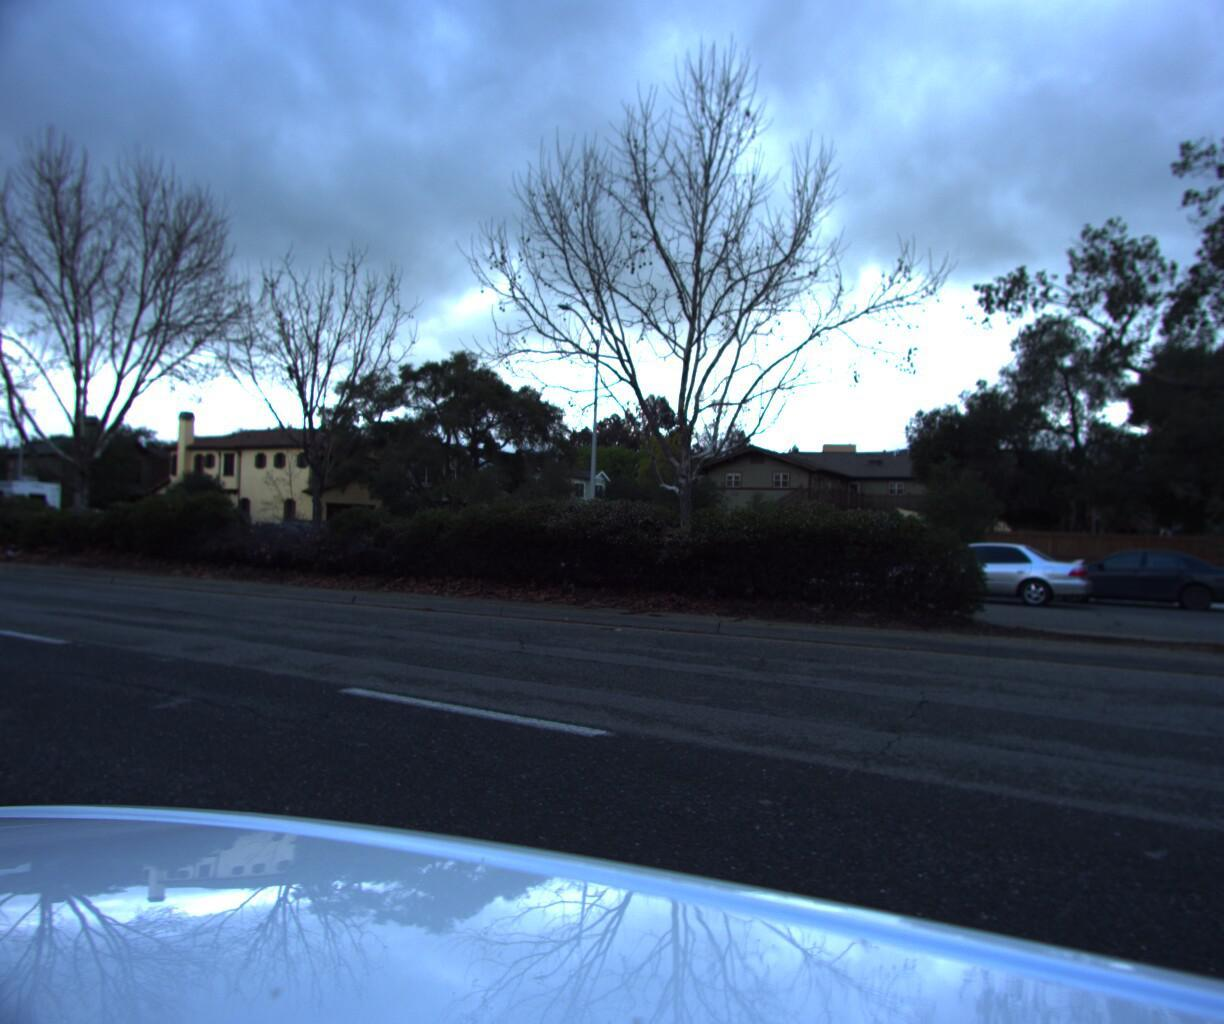car: (876, 535, 1104, 609), (1033, 542, 1224, 614)
other_vehicle: (0, 476, 67, 543)
